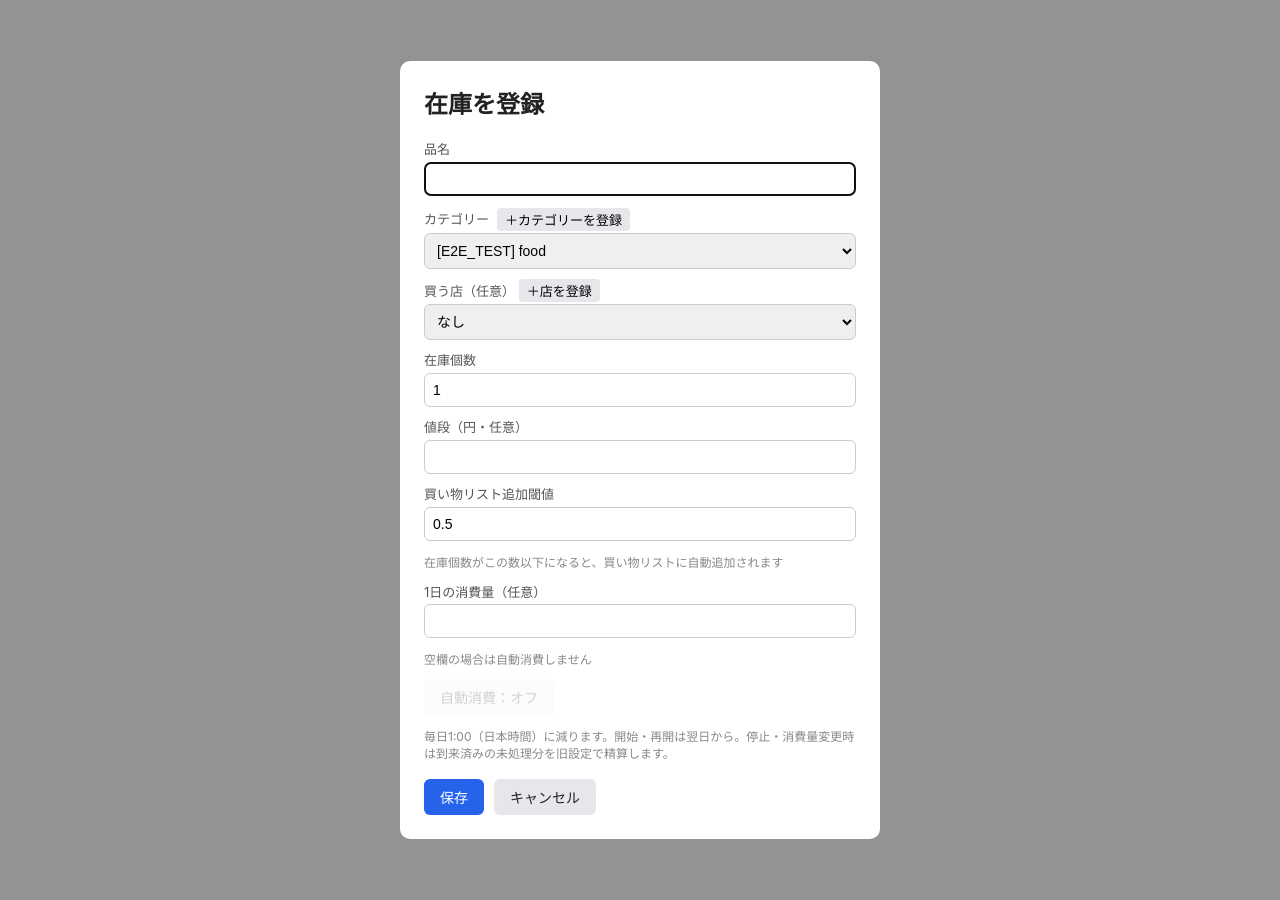
Test: 不正な入力0は送信しない
This screenshot has width=1280, height=900.
Type "[E2E_TEST] testuser_invalid" into the field labelled "品名" at (640, 179), box [424,162,856,196]
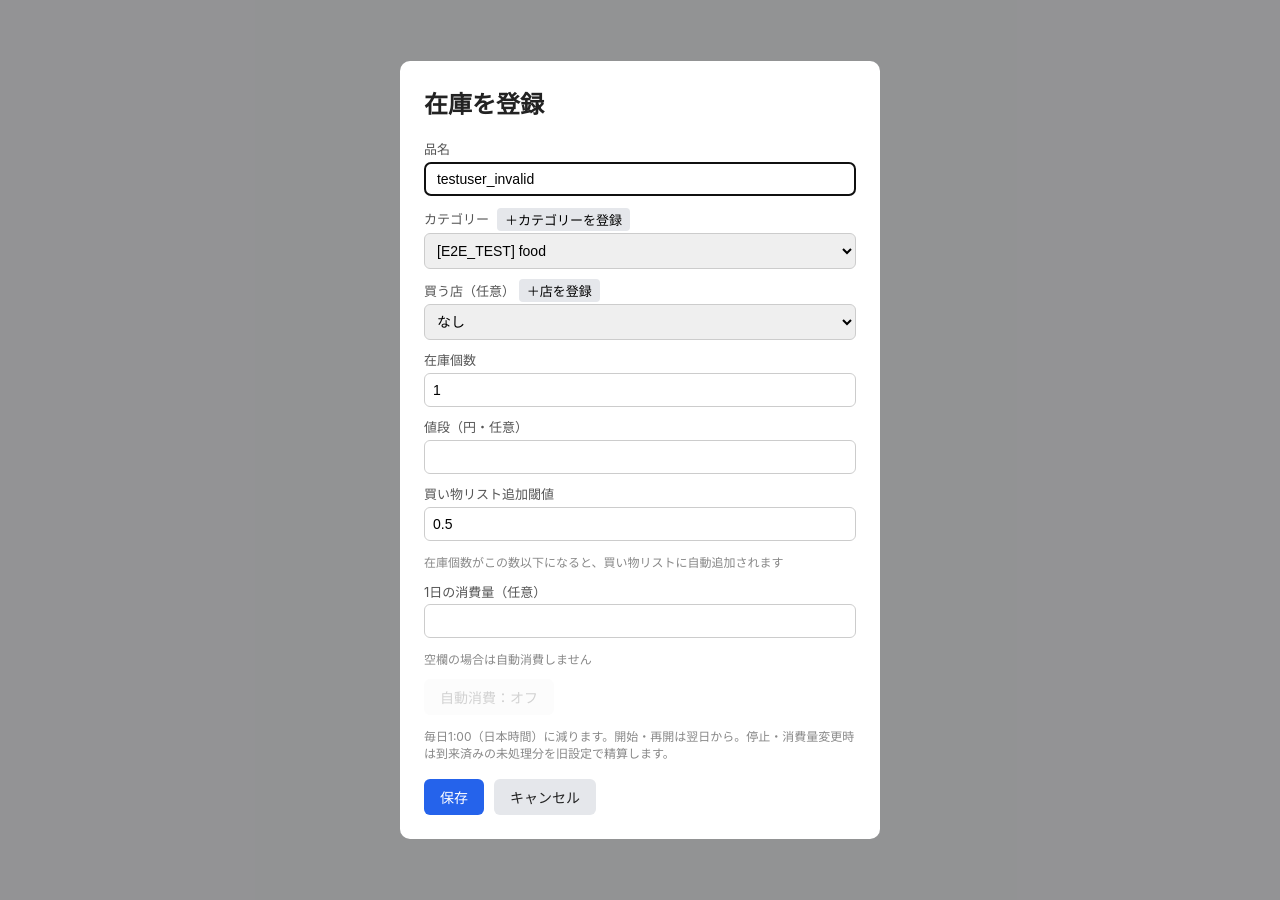
Type "0" into the number field labelled "1日の消費量（任意）" at (640, 621), box [424,604,856,638]
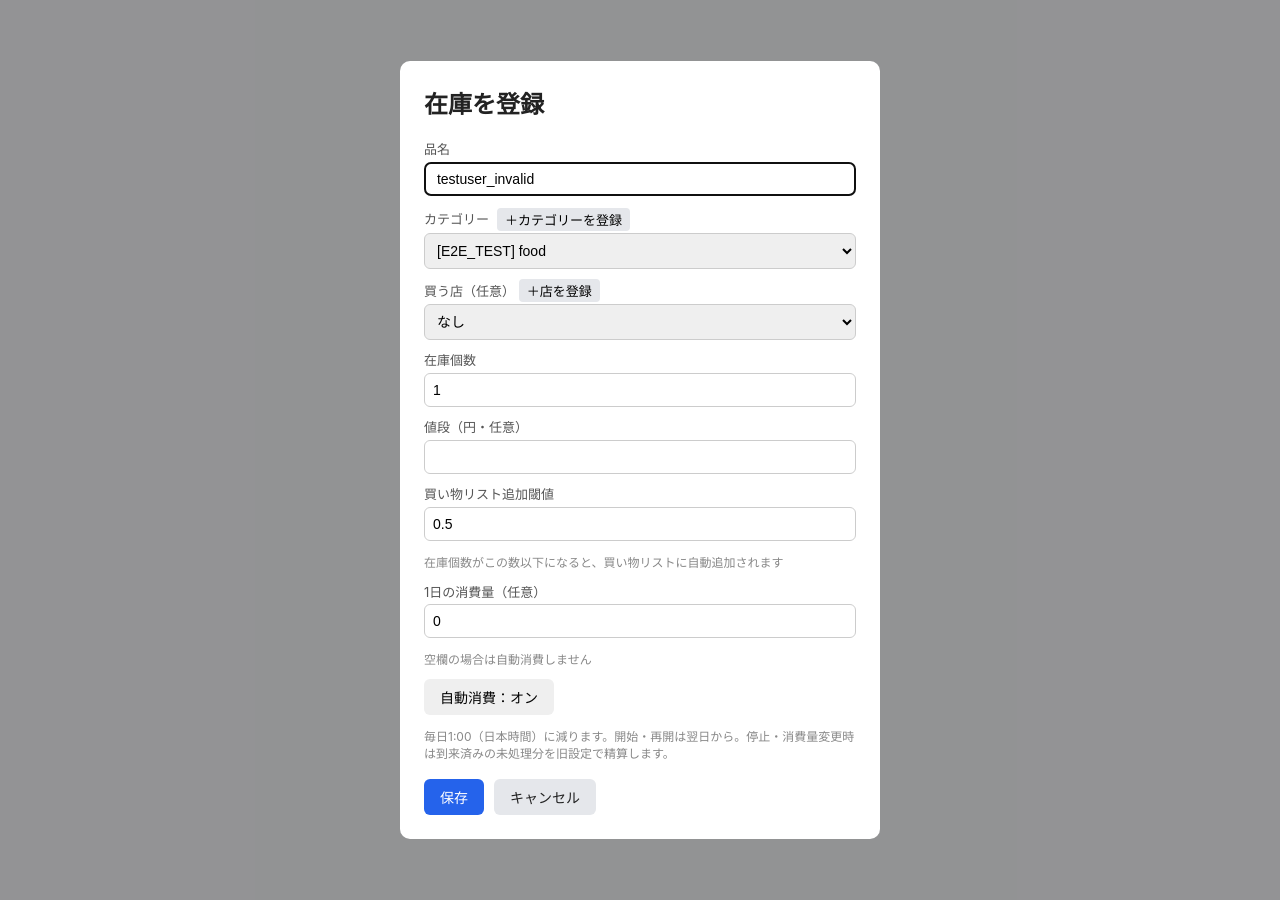
Submit the form named "保存", box [424,140,856,816]
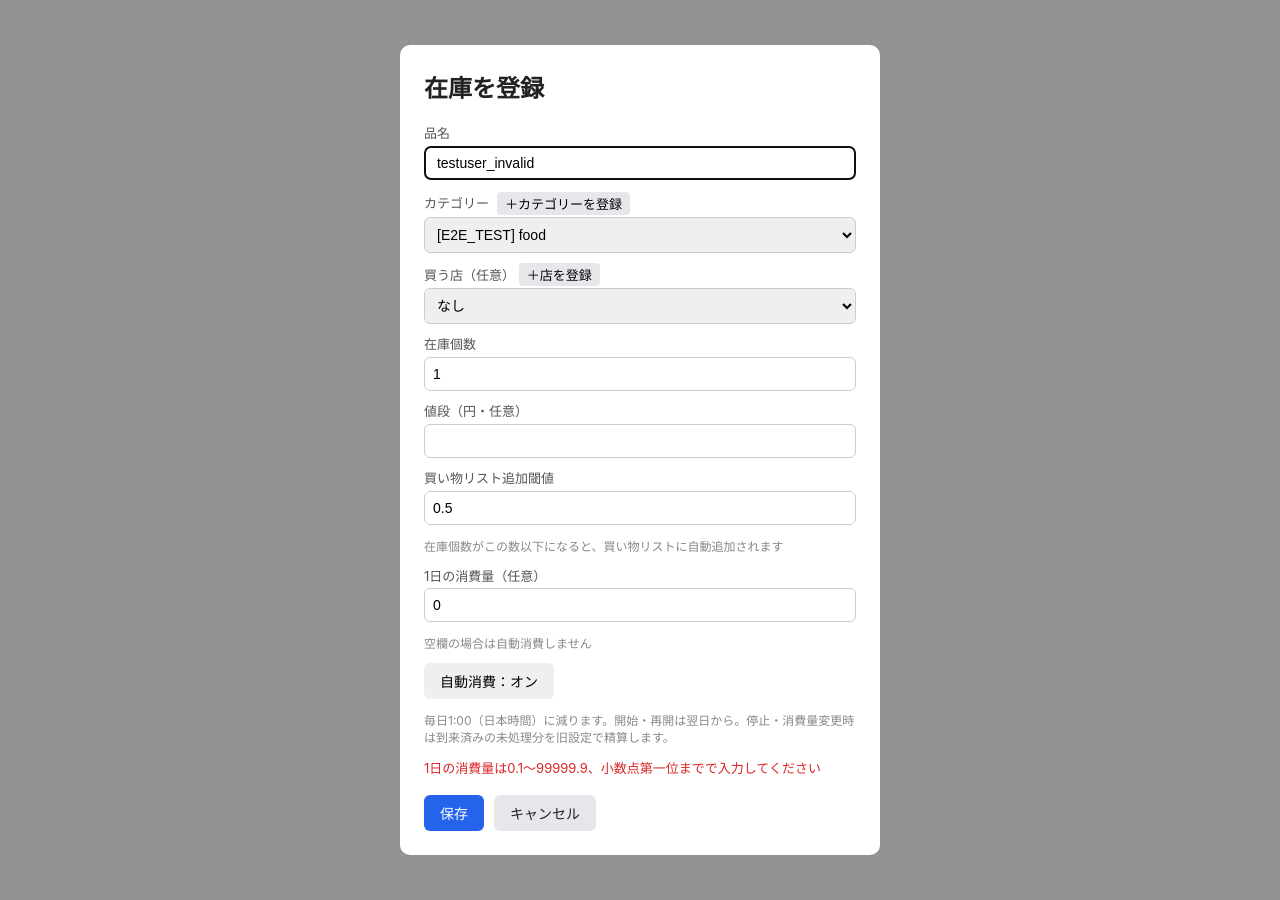
Expected: the message shows "1日の消費量は0.1〜99999.9", [424,760,821,776]
